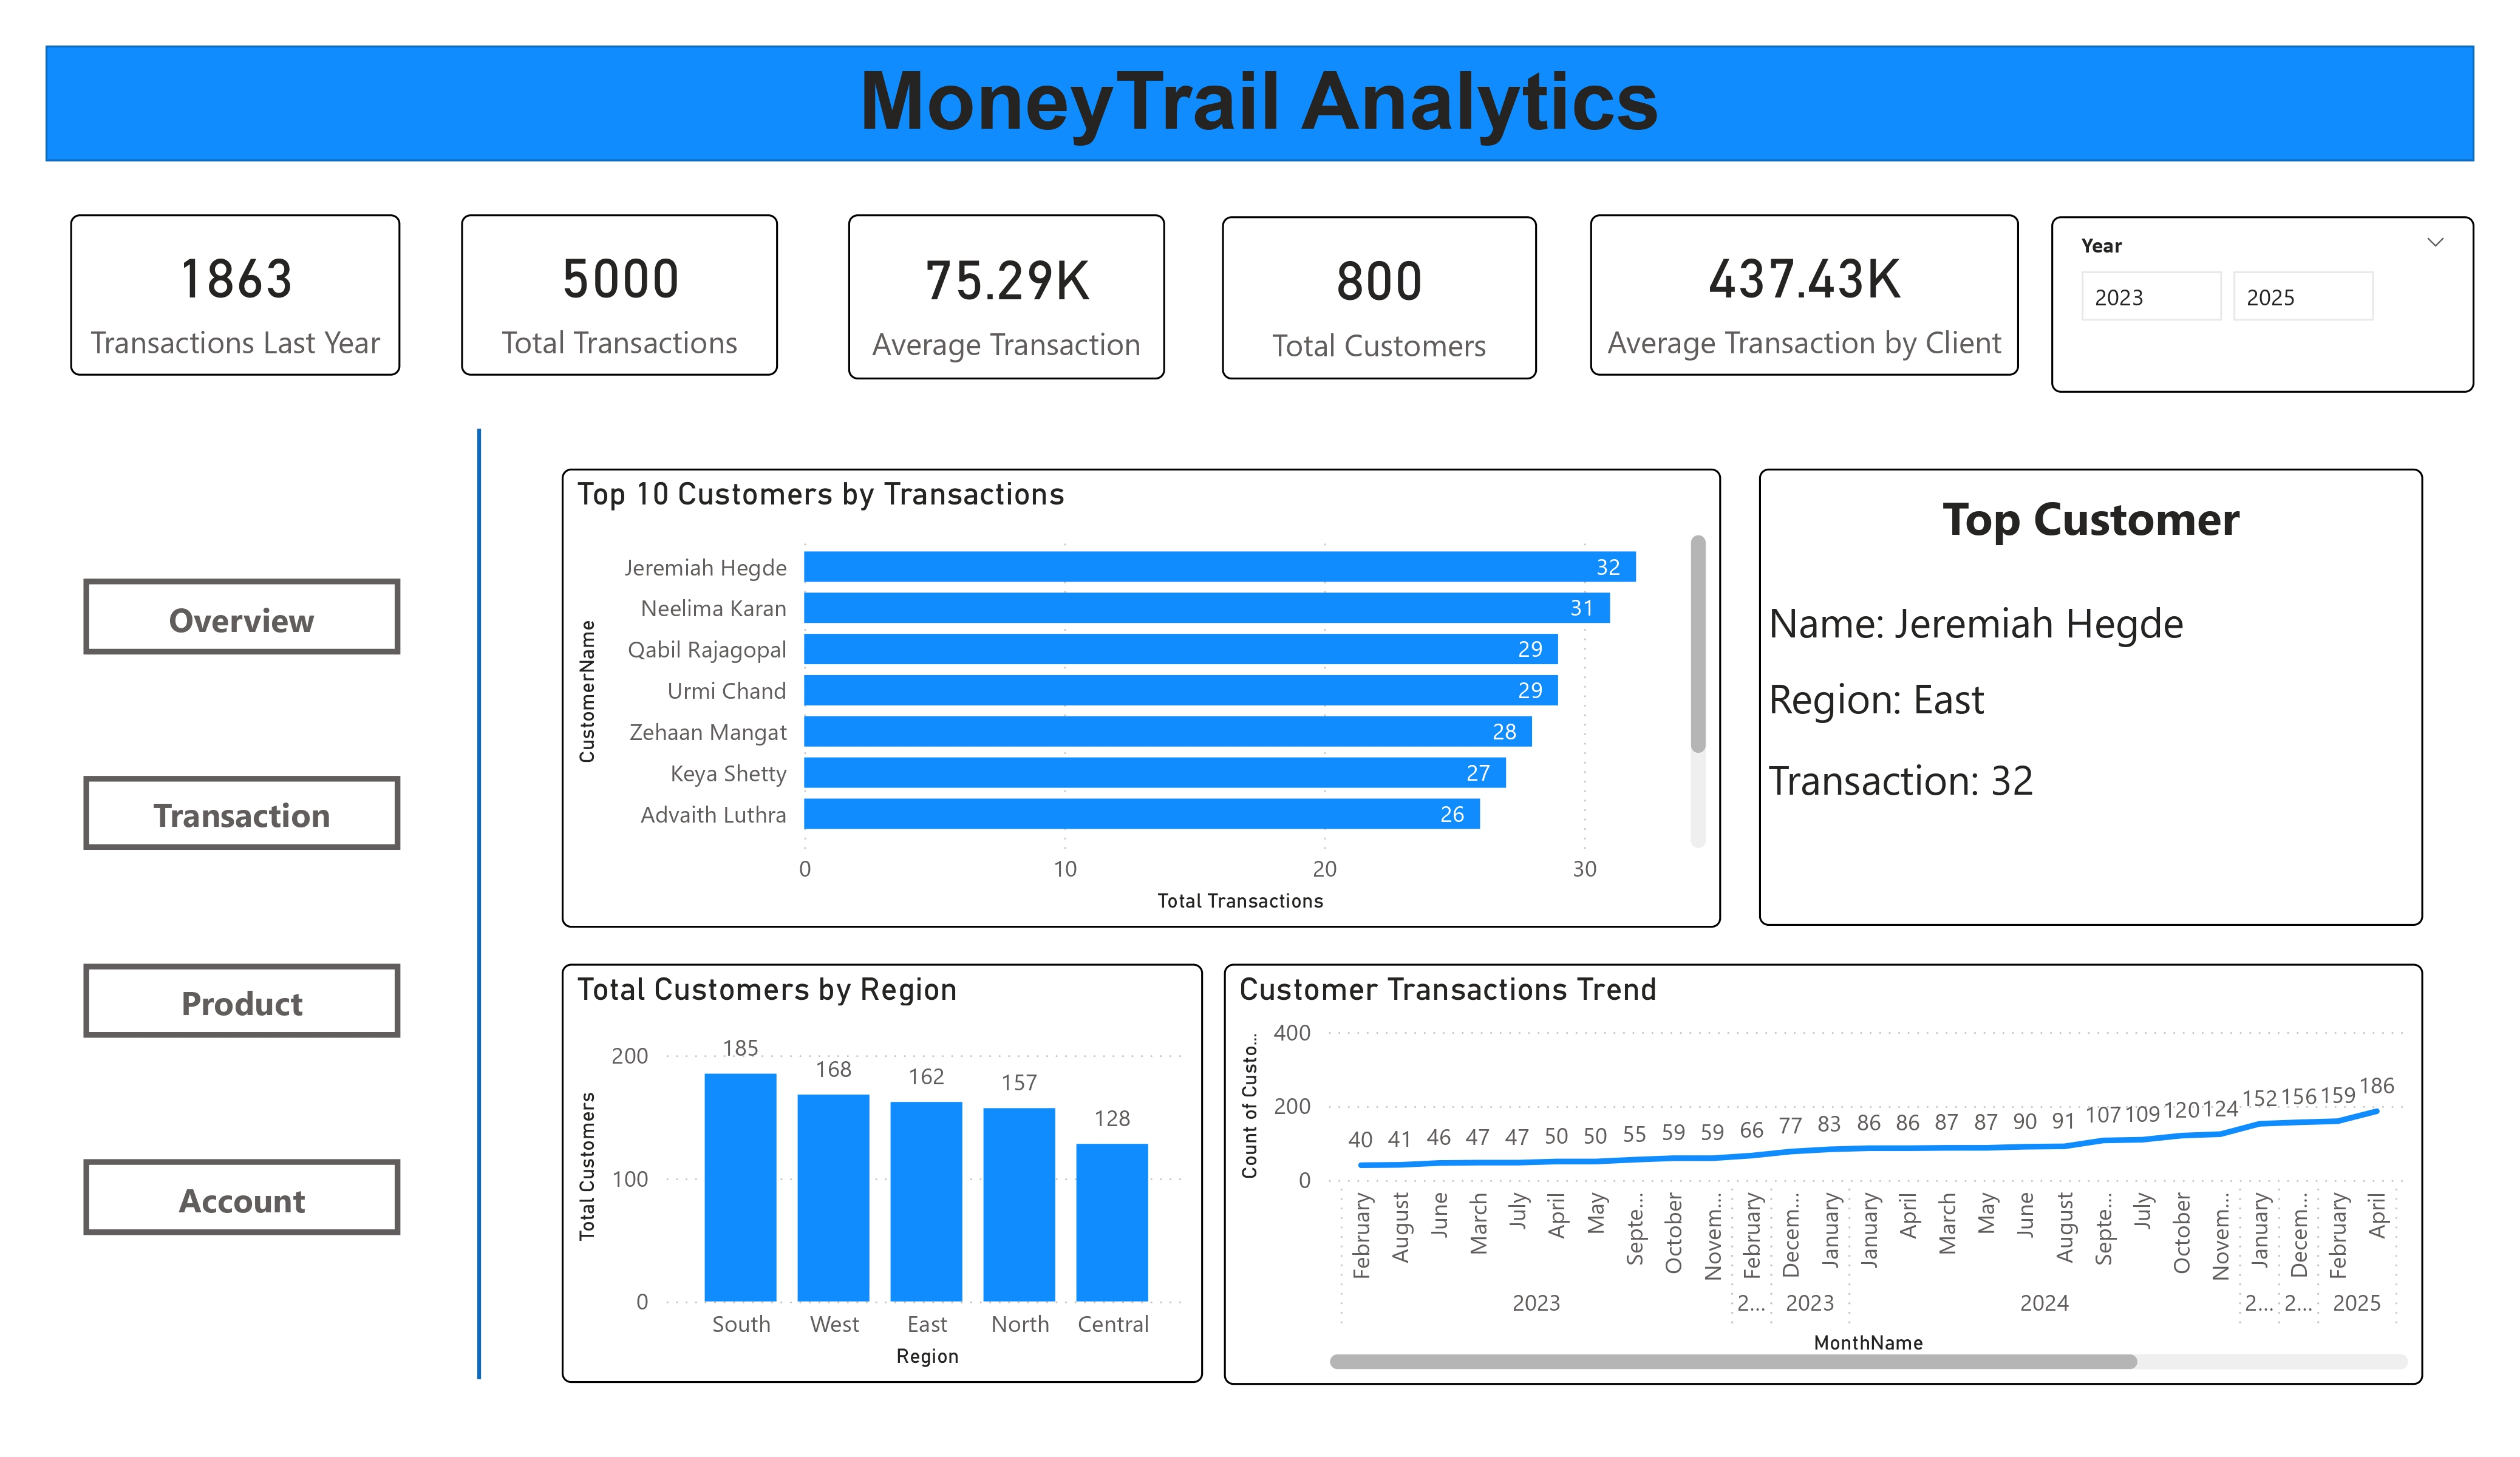

What the dashboard file says about the page in this screenshot:
{"tool":"powerbi","page":{"name":"Customer Analysis","canvas":[1280,720],"ordinal":2},"visuals":[{"type":"card","fields":{"Values":["DimAccount.Total Transactions"]},"box":[218.6,88.6,167.1,85.7],"z":0},{"type":"card","fields":{"Values":["DimAccount.Transactions Last Year"]},"box":[12.9,88.6,174.3,85.7],"z":1000},{"type":"card","fields":{"Values":["DimAccount.Average Transaction"]},"box":[422.9,88.6,167.1,87.1],"z":2000},{"type":"card","fields":{"Values":["DimAccount.Average Transaction by Client"]},"box":[814.3,88.6,225.7,85.7],"z":3000},{"type":"card","fields":{"Values":["DimAccount.Total Customers"]},"box":[620,90,165.7,85.7],"z":4000},{"type":"clusteredBarChart","title":"Top 10 Customers by Transactions","fields":{"Category":["DimCustomer.CustomerName"],"Y":["DimAccount.Total Transactions"]},"box":[272.1,223.3,610.5,241.9],"z":5000},{"type":"columnChart","fields":{"Category":["DimCustomer.Region"],"Y":["DimAccount.Total Customers"]},"box":[272.1,483.7,338.4,220.9],"z":6000},{"type":"shape","box":[0,0,1280,61],"z":10000},{"type":"actionButton","box":[19.8,384.9,167.4,39.5],"z":11000},{"type":"actionButton","box":[19.8,281.4,167.4,39.5],"z":12000},{"type":"actionButton","box":[19.8,483.7,167.4,39.5],"z":13000},{"type":"actionButton","box":[19.8,587.2,167.4,39.5],"z":14000},{"type":"shape","box":[218.6,202.3,19.8,501.2],"z":15000},{"type":"lineChart","title":"Customer Transactions Trend","fields":{"Category":["DimCalendar.Year","DimCalendar.MonthName"],"Y":["CountNonNull(FactTransaction.CustomerID)"]},"box":[620.6,484.3,632.7,221.2],"z":16000},{"type":"slicer","fields":{"Values":["DimCalendar.Year"]},"box":[1057.1,90,222.9,92.9],"z":17000},{"type":"shape","box":[902.9,222.9,350,241.4],"z":18000},{"type":"textbox","box":[902.9,227.1,350,54.3],"z":19000},{"type":"textbox","box":[902.9,284.3,350,40],"z":20000},{"type":"textbox","box":[902.9,324.3,350,42.9],"z":20001},{"type":"textbox","box":[902.9,367.1,350,57.1],"z":20002},{"type":"textbox","box":[0,0,1280,61.4],"z":20003}]}

Visuals, with their boxes in screenshot pixels (x1, y1, x2, y2):
card - DimAccount.Total Transactions: (468, 205, 782, 365)
card - DimAccount.Transactions Last Year: (83, 205, 410, 365)
card - DimAccount.Average Transaction: (851, 205, 1164, 368)
card - DimAccount.Average Transaction by Client: (1584, 205, 2007, 365)
card - DimAccount.Total Customers: (1220, 208, 1530, 368)
"Top 10 Customers by Transactions" clusteredBarChart: (568, 458, 1712, 911)
columnChart - DimCustomer.Region x DimAccount.Total Customers: (568, 945, 1202, 1359)
shape: (59, 39, 2456, 154)
actionButton: (96, 760, 410, 834)
actionButton: (96, 566, 410, 640)
actionButton: (96, 945, 410, 1019)
actionButton: (96, 1139, 410, 1213)
shape: (468, 418, 506, 1356)
"Customer Transactions Trend" lineChart: (1221, 946, 2406, 1360)
slicer - DimCalendar.Year: (2038, 208, 2456, 382)
shape: (1750, 457, 2405, 909)
textbox: (1750, 464, 2405, 566)
textbox: (1750, 572, 2405, 647)
textbox: (1750, 647, 2405, 727)
textbox: (1750, 727, 2405, 834)
textbox: (59, 39, 2456, 154)
